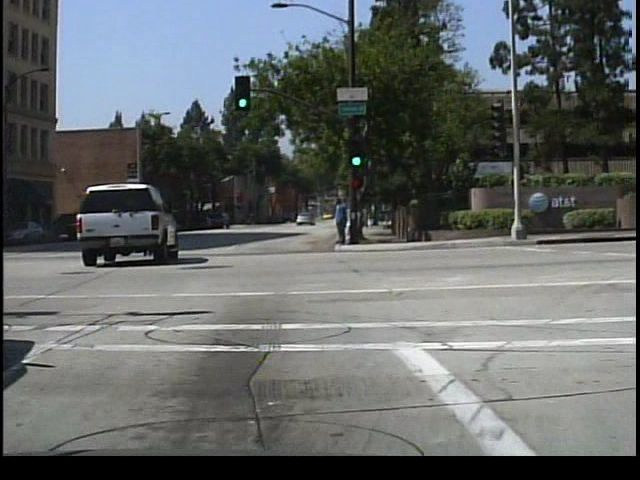person: (328, 190, 348, 246), (337, 194, 355, 242)
